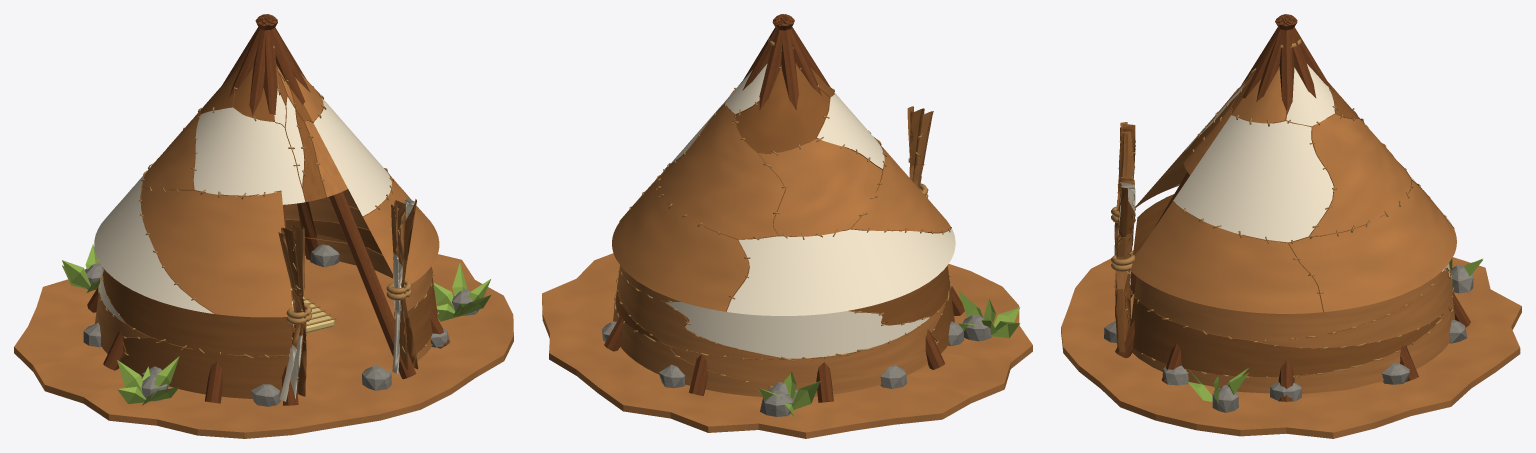
The model's file is round_hide_tent.glb.
3 renders of one model, left to right at view 1: azimuth 30°, elevation 25°; view 2: azimuth 150°, elevation 25°; view 3: azimuth 270°, elevation 25°, orthographic.
Parts seen in each view (by area): view 1: Conical hide roof irregular hide patch (×3), Sandy island, Round dwelling lower hide wall irregular hide patch (×2), Conical shelter rib, Tied doorway hide flap irregular hide patch (×3), Roof over round doorway irregular hide patch (×3), Tropical leaves, Dwelling perimeter stone, Ground rock, Door flap rope tie, Conical hide roof uneven seam cord, Tied doorway hide flap uneven seam cord (+2 smaller); view 2: Conical hide roof irregular hide patch (×3), Sandy island, Round dwelling lower hide wall irregular hide patch (×3), Conical shelter rib, Tropical leaves, Dwelling perimeter stone, Tied doorway hide flap irregular hide patch (×2), Ground rock, Conical hide roof uneven seam cord, Round dwelling lower hide wall uneven seam cord, Round dwelling lower hide wall irregular hand stitch, Conical hide roof irregular hand stitch; view 3: Conical hide roof irregular hide patch (×2), Sandy island, Round dwelling lower hide wall irregular hide patch (×2), Conical shelter rib, Tied doorway hide flap irregular hide patch (×2), Dwelling perimeter stone, Roof over round doorway irregular hide patch (×2), Ground rock, Conical hide roof uneven seam cord, Tropical leaves, Round dwelling lower hide wall irregular hand stitch, Tied doorway hide flap uneven seam cord (+2 smaller).
Boxes of the visible parts, x1=… form: Conical hide roof irregular hide patch (×3): x1=94, y1=65, x2=439, y2=317; Sandy island: x1=14, y1=254, x2=513, y2=438; Round dwelling lower hide wall irregular hide patch (×2): x1=95, y1=189, x2=437, y2=398; Conical shelter rib: x1=87, y1=14, x2=449, y2=405; Tied doorway hide flap irregular hide patch (×3): x1=278, y1=197, x2=418, y2=401; Roof over round doorway irregular hide patch (×3): x1=274, y1=66, x2=347, y2=204; Tropical leaves: x1=62, y1=244, x2=490, y2=405; Dwelling perimeter stone: x1=83, y1=244, x2=450, y2=406; Ground rock: x1=85, y1=263, x2=478, y2=401; Door flap rope tie: x1=286, y1=278, x2=411, y2=324; Conical hide roof uneven seam cord: x1=140, y1=79, x2=391, y2=313; Tied doorway hide flap uneven seam cord: x1=281, y1=201, x2=415, y2=397; Conical hide roof irregular hide patch (×3): x1=612, y1=63, x2=955, y2=315; Sandy island: x1=542, y1=253, x2=1032, y2=438; Round dwelling lower hide wall irregular hide patch (×3): x1=613, y1=265, x2=954, y2=396; Conical shelter rib: x1=604, y1=14, x2=964, y2=402; Tropical leaves: x1=758, y1=290, x2=1020, y2=417; Dwelling perimeter stone: x1=602, y1=321, x2=964, y2=402; Tied doorway hide flap irregular hide patch (×2): x1=907, y1=106, x2=933, y2=189; Ground rock: x1=760, y1=314, x2=991, y2=416; Conical hide roof uneven seam cord: x1=619, y1=62, x2=951, y2=311; Round dwelling lower hide wall uneven seam cord: x1=615, y1=265, x2=950, y2=396; Round dwelling lower hide wall irregular hand stitch: x1=614, y1=266, x2=951, y2=387; Conical hide roof irregular hand stitch: x1=629, y1=67, x2=950, y2=299; Conical hide roof irregular hide patch (×2): x1=1129, y1=64, x2=1456, y2=313; Sandy island: x1=1061, y1=250, x2=1521, y2=438; Round dwelling lower hide wall irregular hide patch (×2): x1=1131, y1=194, x2=1455, y2=393; Conical shelter rib: x1=1115, y1=14, x2=1470, y2=401; Tied doorway hide flap irregular hide patch (×2): x1=1115, y1=122, x2=1135, y2=352; Dwelling perimeter stone: x1=1104, y1=293, x2=1467, y2=401; Roof over round doorway irregular hide patch (×2): x1=1183, y1=68, x2=1256, y2=174; Ground rock: x1=1212, y1=264, x2=1473, y2=412; Conical hide roof uneven seam cord: x1=1172, y1=85, x2=1454, y2=312; Tropical leaves: x1=1188, y1=258, x2=1482, y2=404; Round dwelling lower hide wall irregular hand stitch: x1=1137, y1=268, x2=1453, y2=378; Tied doorway hide flap uneven seam cord: x1=1114, y1=125, x2=1134, y2=328.
Size of the model in its own units: 3.94 by 2.75 by 3.61.
Materials: 8 (5 with a texture image).
